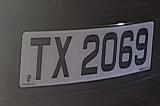0: (100, 30, 119, 74)
2: (79, 33, 101, 79)
6: (118, 27, 135, 74)
9: (134, 25, 150, 70)
T: (25, 33, 50, 86)
X: (51, 34, 73, 82)
